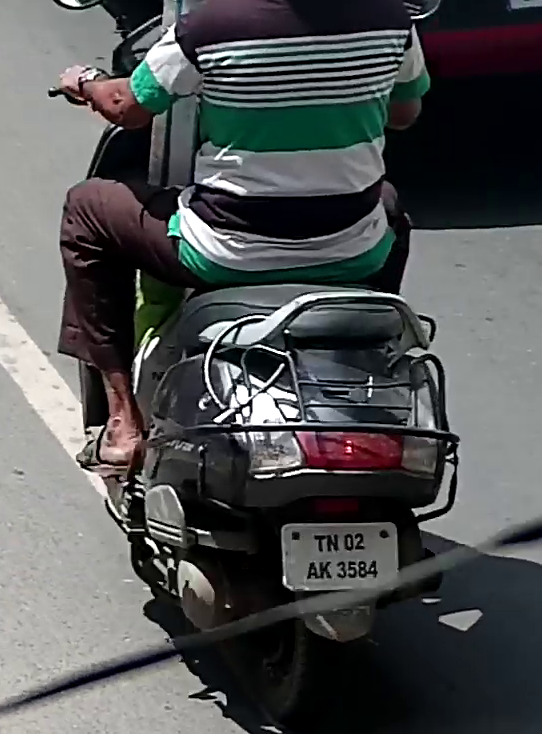0: (343, 532, 353, 550)
2: (354, 531, 364, 550)
3: (335, 560, 345, 578)
4: (367, 559, 378, 578)
5: (346, 559, 356, 579)
8: (357, 559, 366, 577)
A: (305, 560, 318, 580)
K: (319, 560, 331, 578)
N: (326, 533, 339, 552)
P16: (281, 520, 401, 593)
T: (313, 534, 325, 551)
